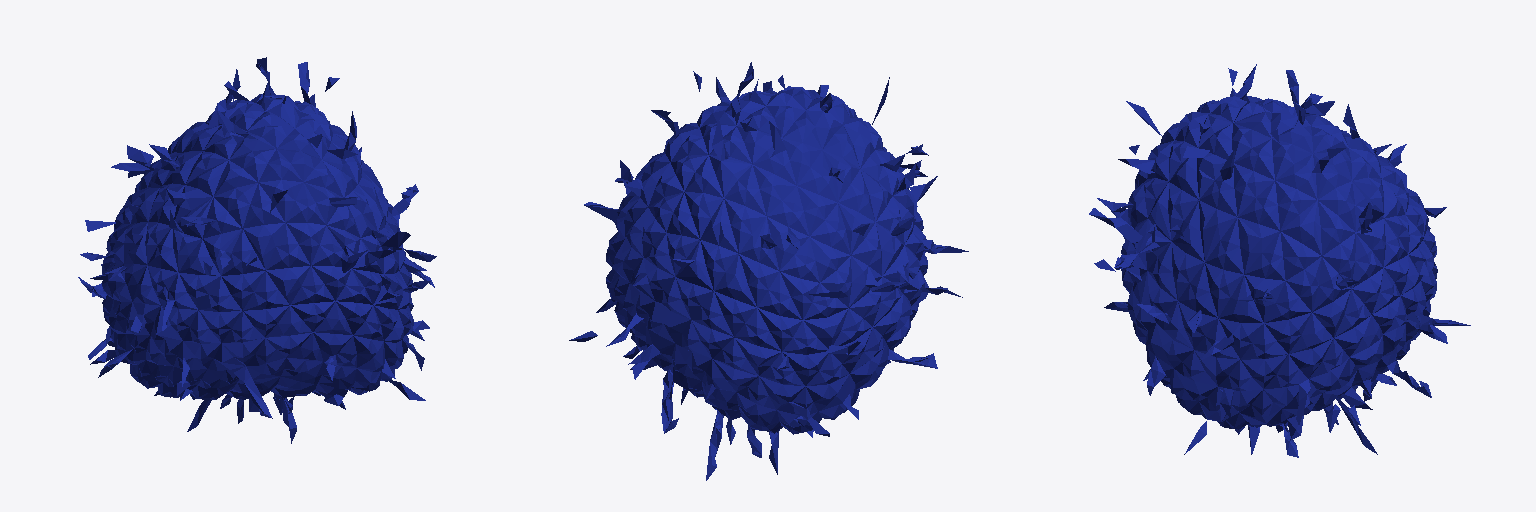
The model's file is 肿瘤细胞.obj.
The picture shows the model from 3 angles: view 1: azimuth 30°, elevation 25°; view 2: azimuth 150°, elevation 25°; view 3: azimuth 270°, elevation 25°; orthographic projection.
Parts seen in each view (by area): view 1: VRayProxy009; view 2: VRayProxy009; view 3: VRayProxy009.
Boxes of the visible parts, <box> form: VRayProxy009: <box>78,57,436,443</box>; VRayProxy009: <box>569,62,968,480</box>; VRayProxy009: <box>1089,64,1470,457</box>.
Size of the model in its own units: 1.62 by 1.83 by 1.64.